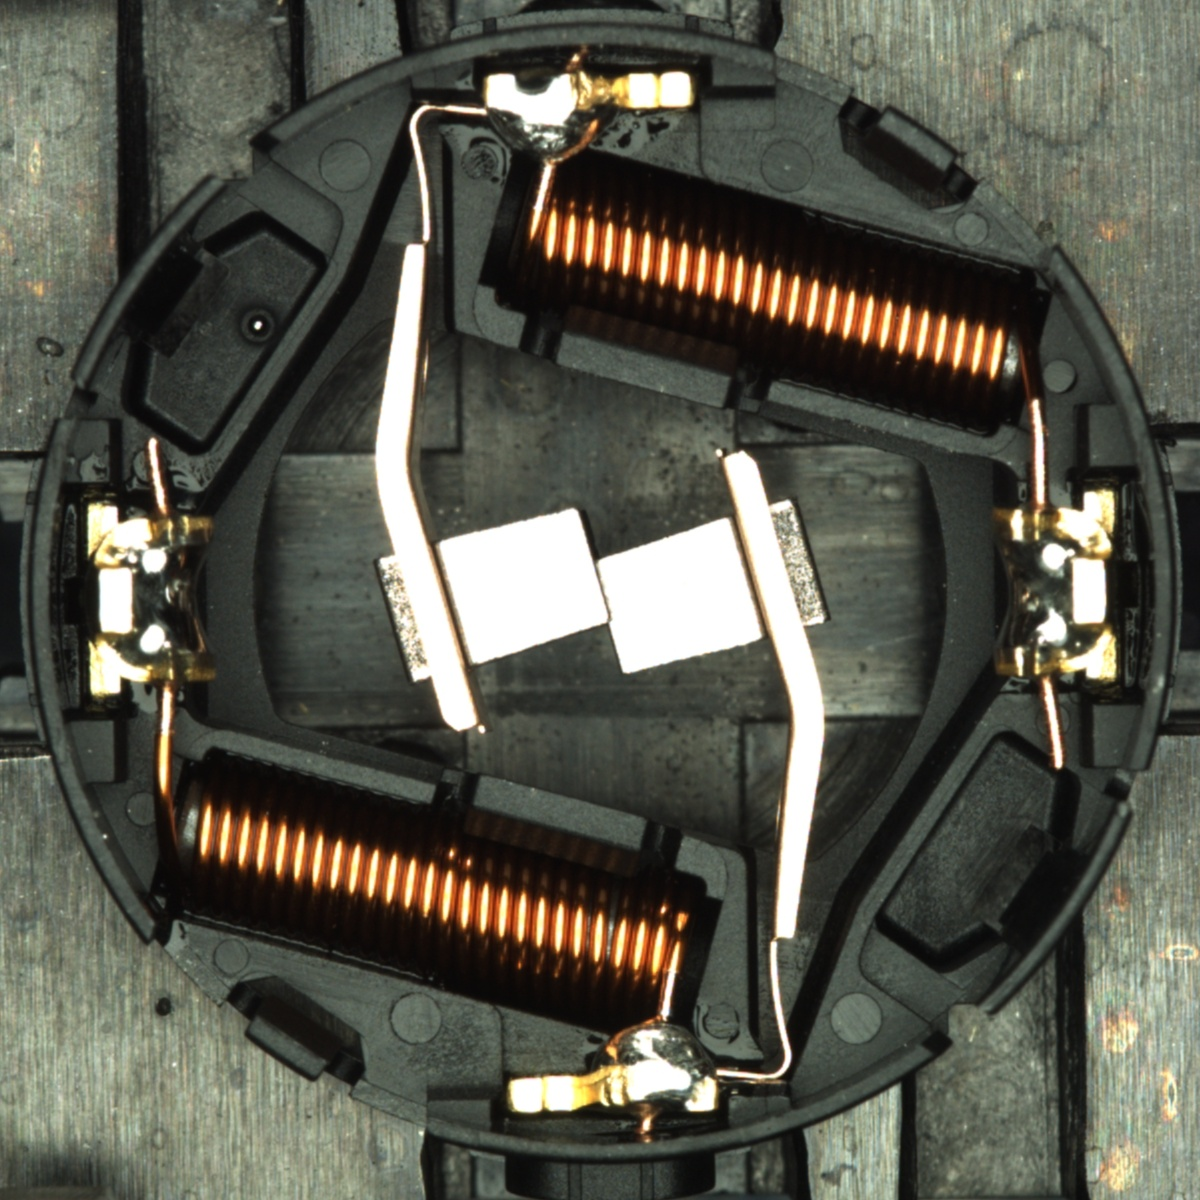1: (255, 30, 484, 255), (713, 927, 943, 1152)
2: (713, 30, 943, 255), (255, 927, 484, 1152)
3: (25, 255, 255, 479), (943, 703, 1171, 927)
4: (713, 703, 943, 927), (255, 255, 484, 479)
5: (484, 142, 713, 367), (484, 815, 713, 1040)
6: (713, 255, 943, 479), (255, 703, 484, 927)
7: (25, 703, 255, 927), (943, 255, 1171, 479)
bui_chi: (249, 316, 266, 334)
cacbon: (396, 497, 801, 685)
chau_dien: (79, 497, 220, 699), (984, 488, 1124, 687)
tay_choi: (481, 68, 698, 170), (505, 1016, 720, 1116)
thanh_de: (953, 787, 1140, 1031), (58, 163, 244, 404)
